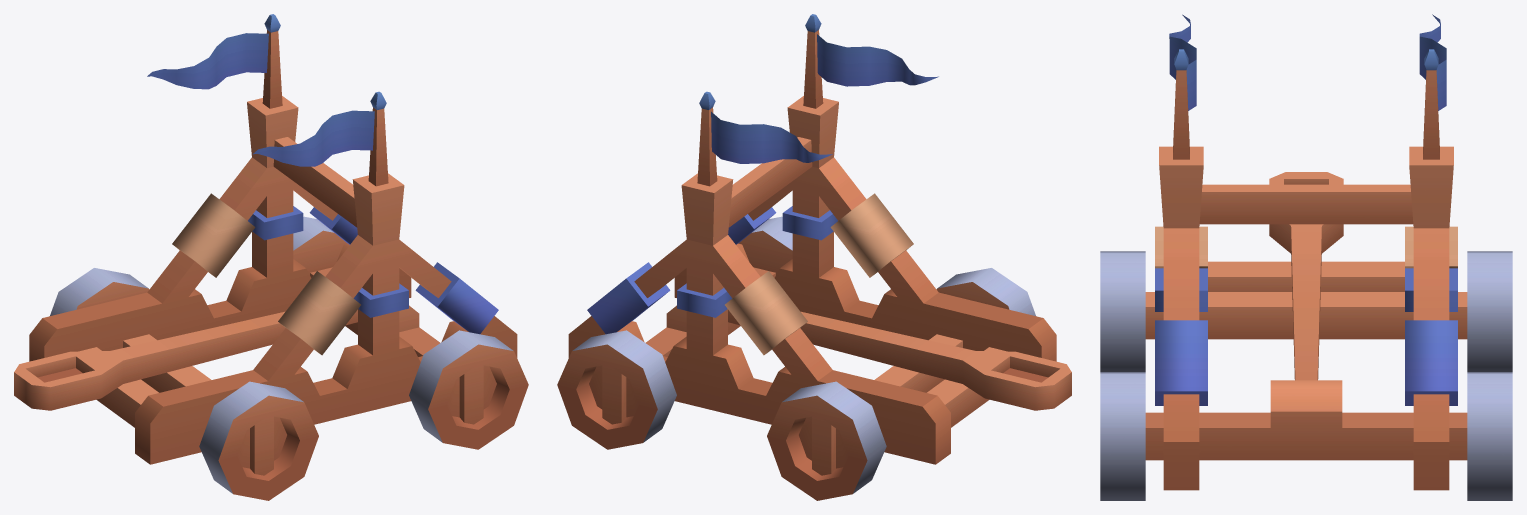
File: siege-catapult.glb
3 renders of one model, left to right at view 1: azimuth 30°, elevation 25°; view 2: azimuth 150°, elevation 25°; view 3: azimuth 270°, elevation 25°, orthographic. The views are drawn at different scales.
Visible parts, largest first — view 1: siege-catapult, wheel (×4), catapult; view 2: siege-catapult, wheel (×4), catapult; view 3: siege-catapult, wheel (×4), catapult.
Boxes of the visible parts, x1,y1,x2,y2 form: siege-catapult: (29,14,517,464); wheel (×4): (50,216,528,500); catapult: (14,309,357,410); siege-catapult: (568,14,1056,464); wheel (×4): (557,216,1035,500); catapult: (728,309,1071,410); siege-catapult: (1145,14,1467,490); wheel (×4): (1100,251,1512,500); catapult: (1269,172,1343,380).
Size of the model in its own units: 1.73 by 1.33 by 1.21.
1 material, 1 textured.
